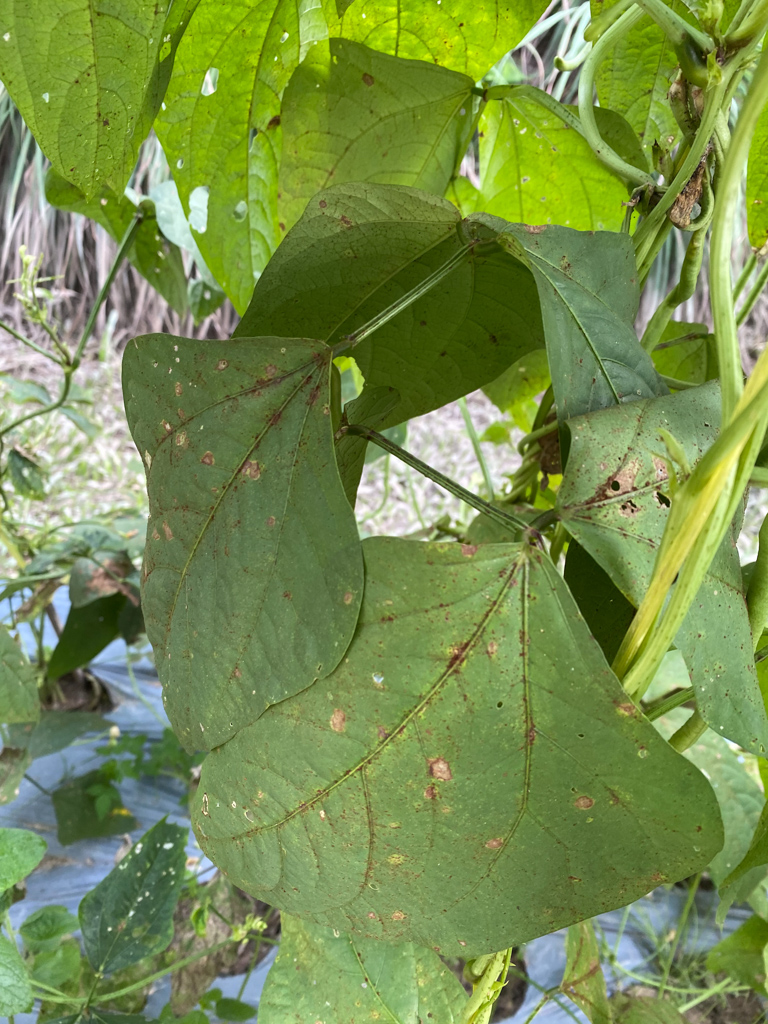Rust: (211, 558, 689, 954), (124, 335, 360, 766)
